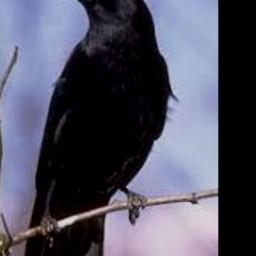Crow: (24, 0, 178, 256)
